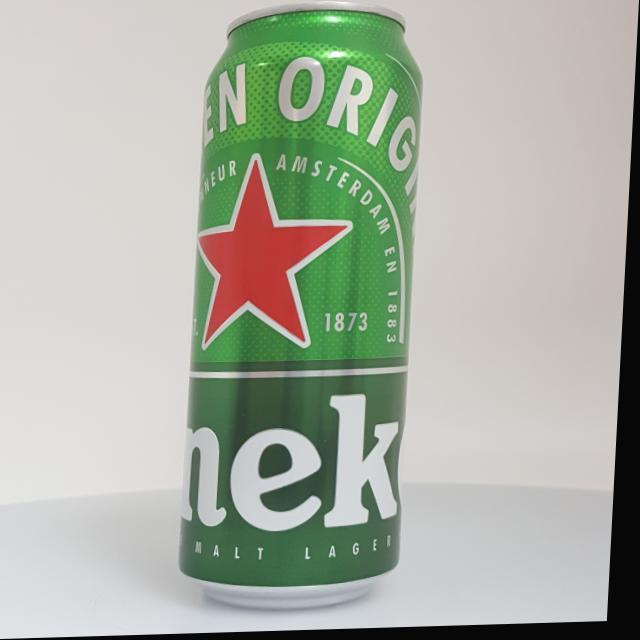beer-can: (183, 0, 428, 615)
